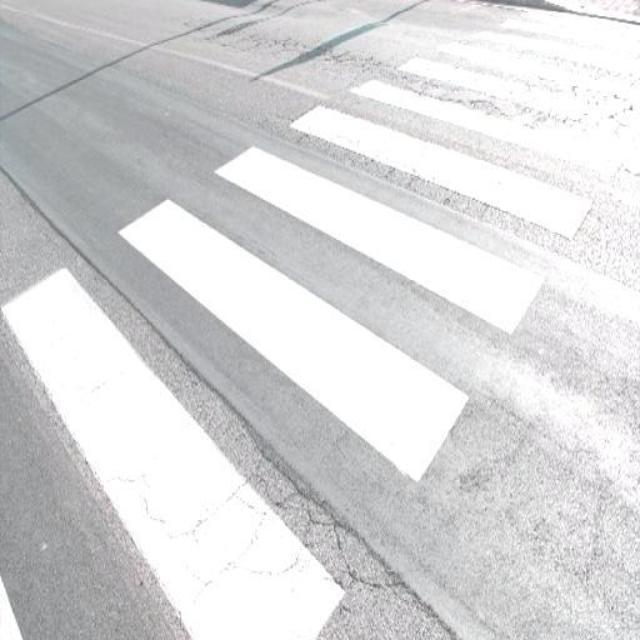sidewalk: (1, 20, 639, 639)
